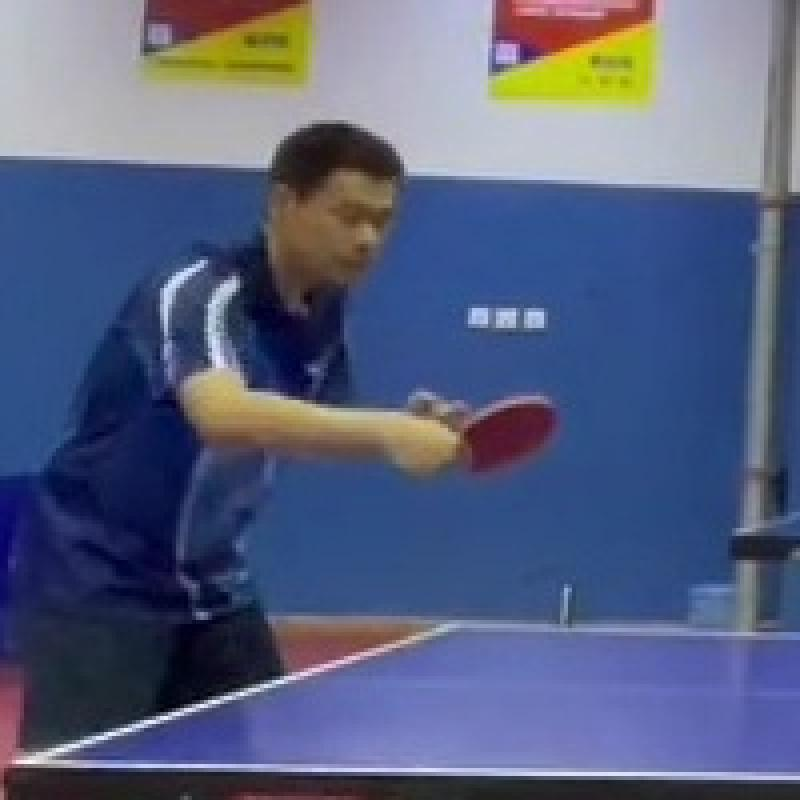bats: (450, 381, 571, 478)
